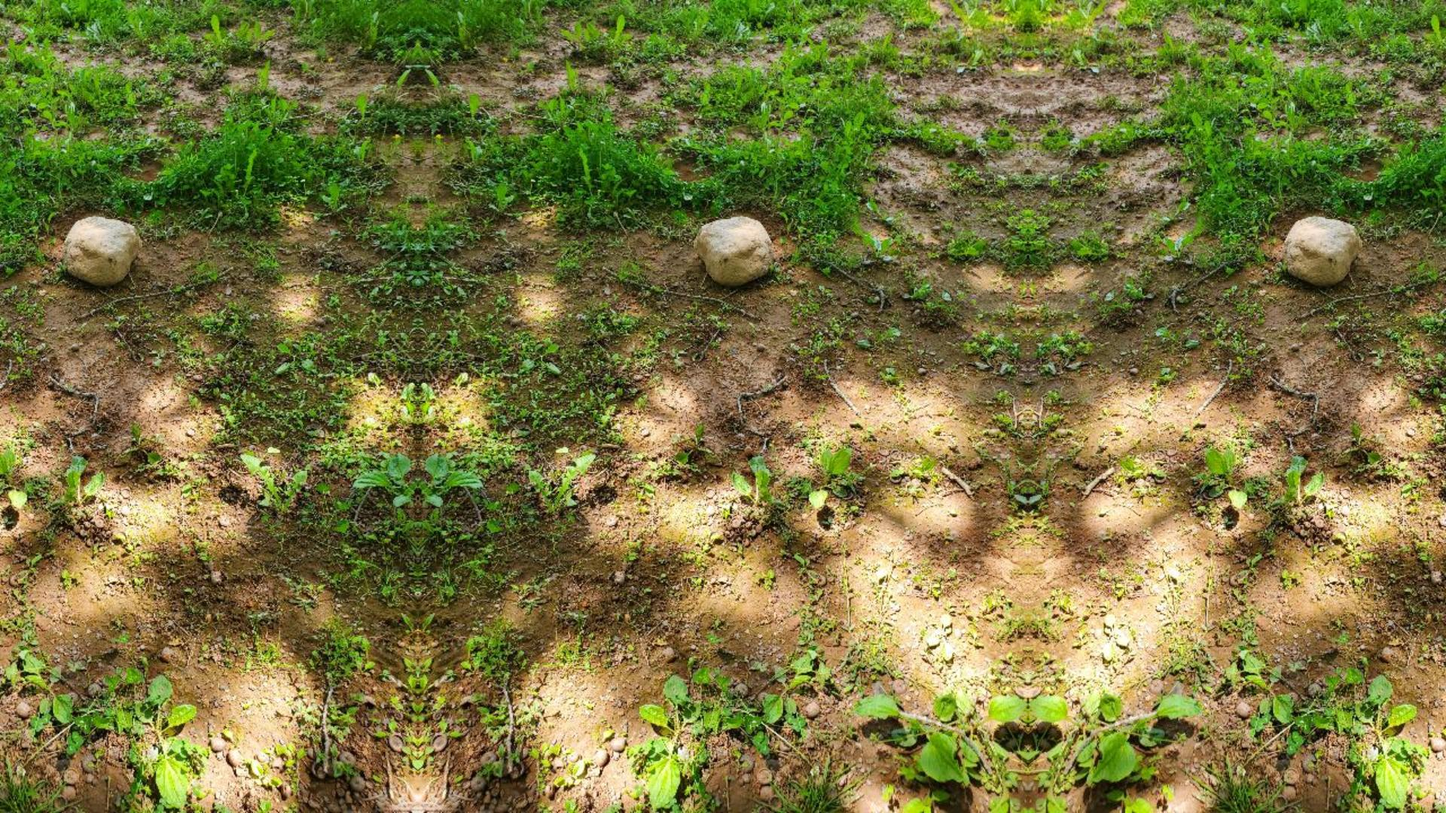rock: (694, 217, 774, 286), (63, 216, 140, 286), (1283, 217, 1361, 286)
